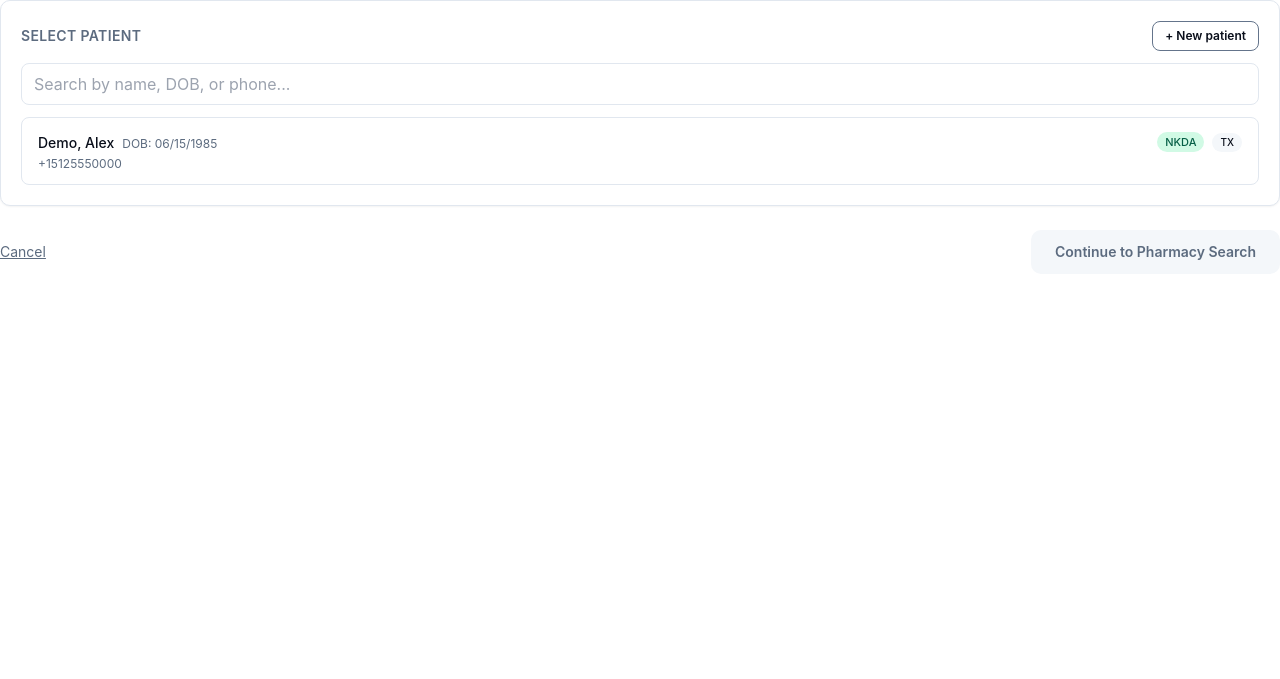
Test: likely duplicate › "No, add a new patient" posts again with confirmNew
Click the button "+ New patient".
click(1206, 36)  # box x1=1152 y1=21 x2=1259 y2=51
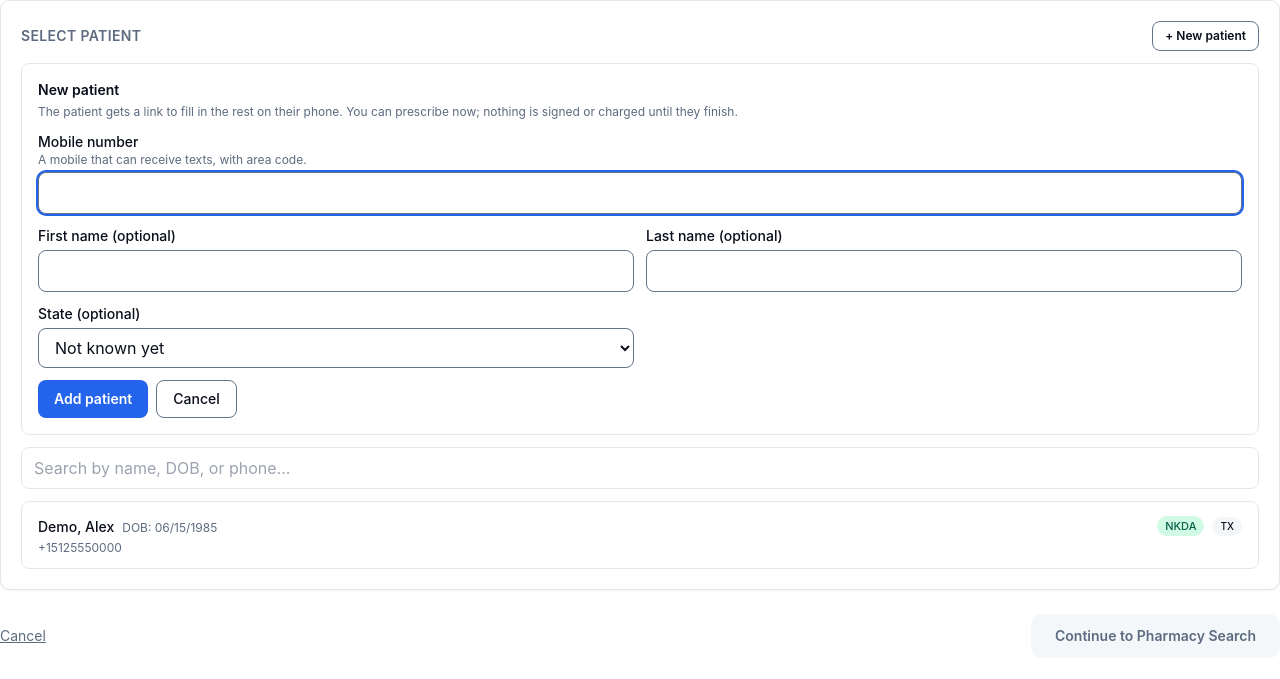
Type "5125550000" into the field labelled "Mobile number".
click(640, 193); type("5125550000")  # box x1=38 y1=172 x2=1242 y2=214
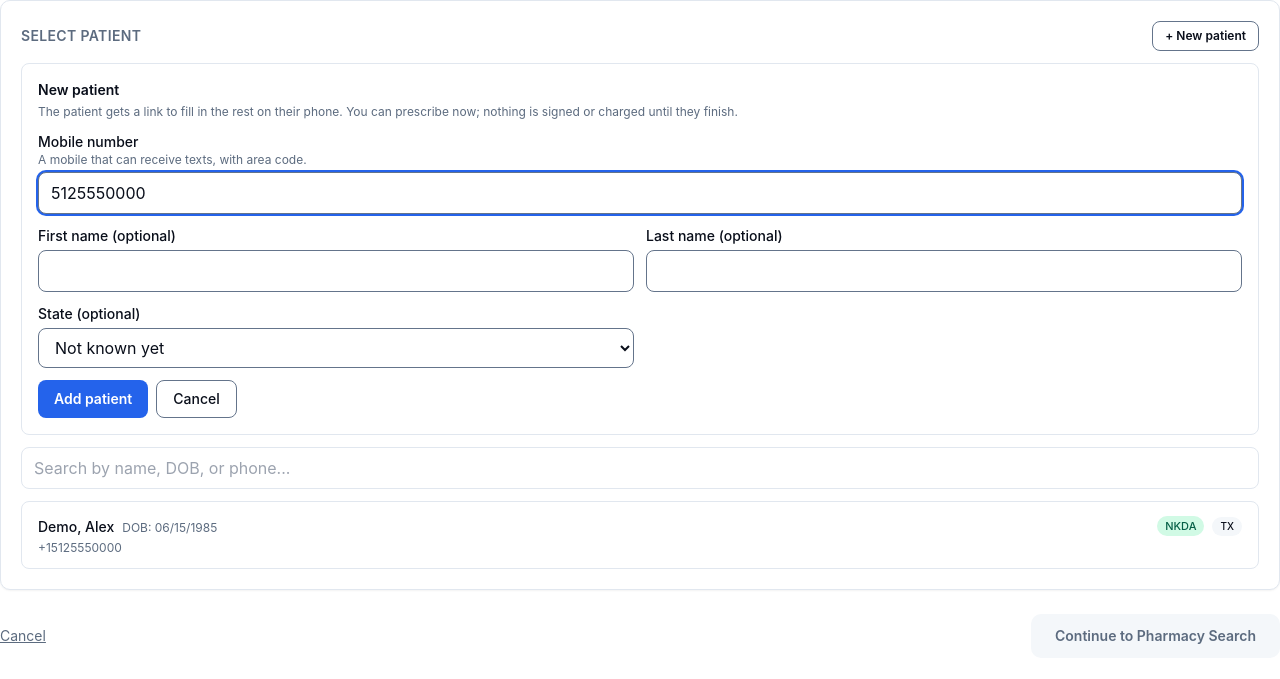
Click the button "Add patient".
click(93, 399)  # box x1=38 y1=380 x2=148 y2=418
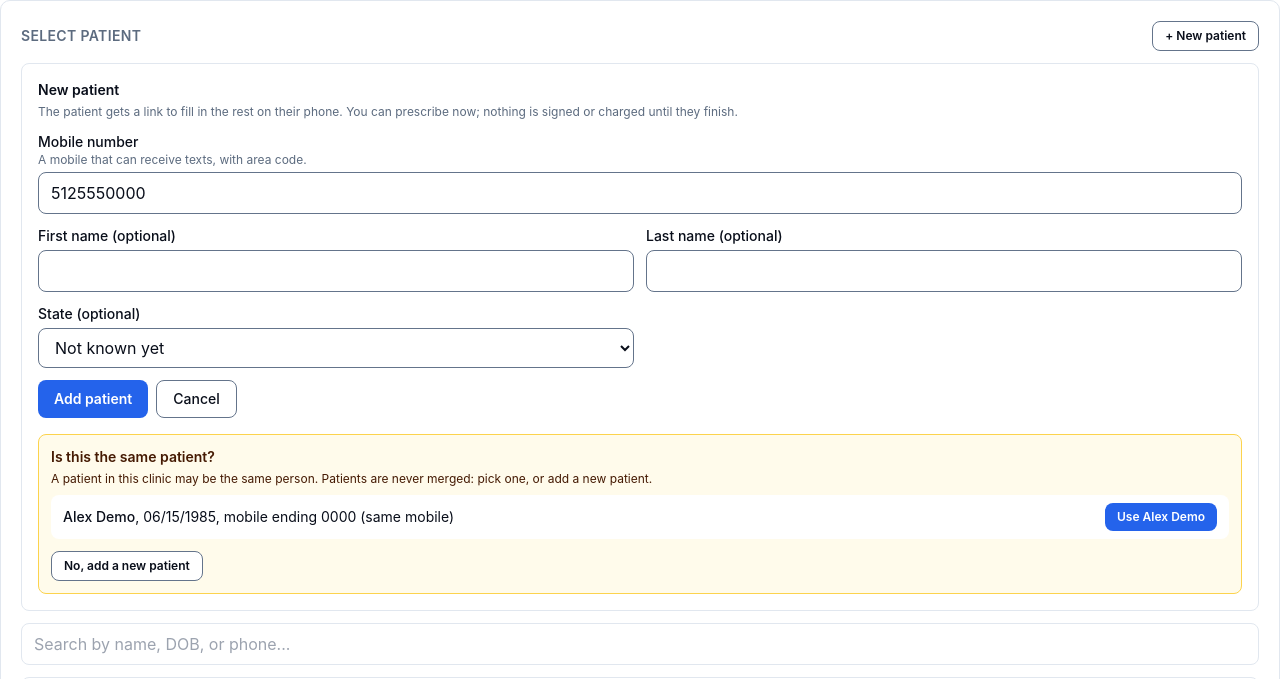
Click the button "No, add a new patient".
click(127, 566)  # box x1=51 y1=551 x2=203 y2=581
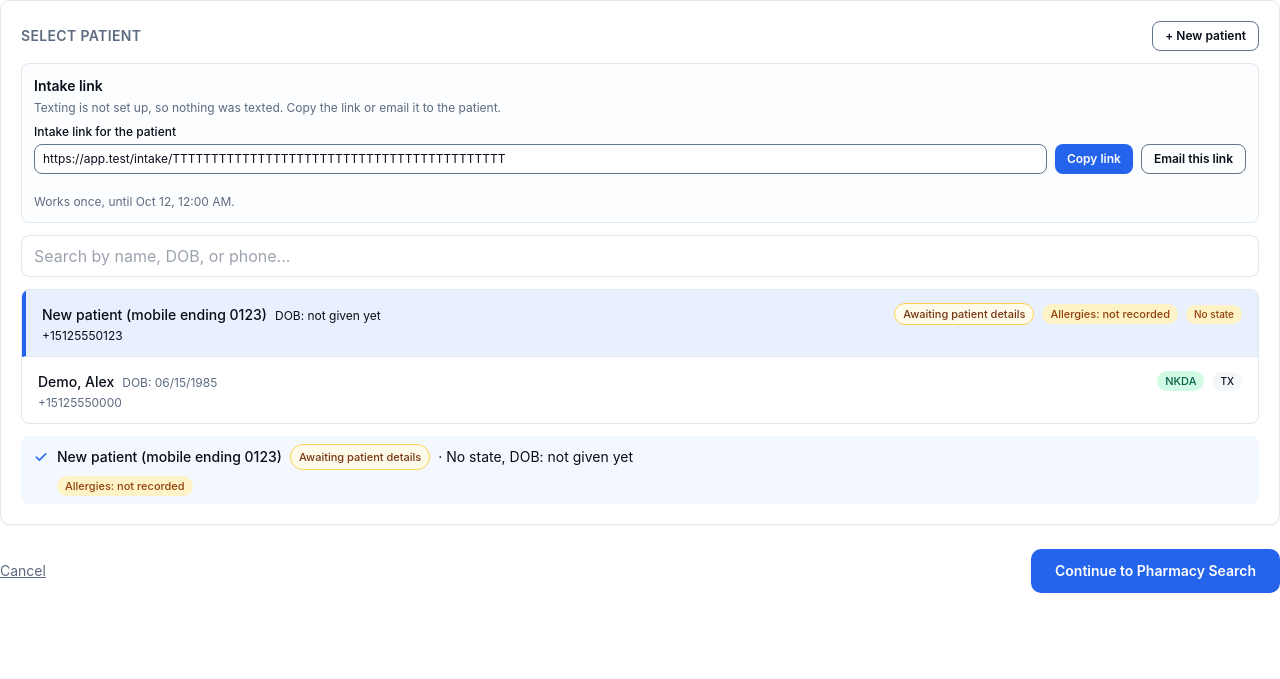
Expected: the element "Intake link" is shown, x1=21 y1=63 x2=1259 y2=223
